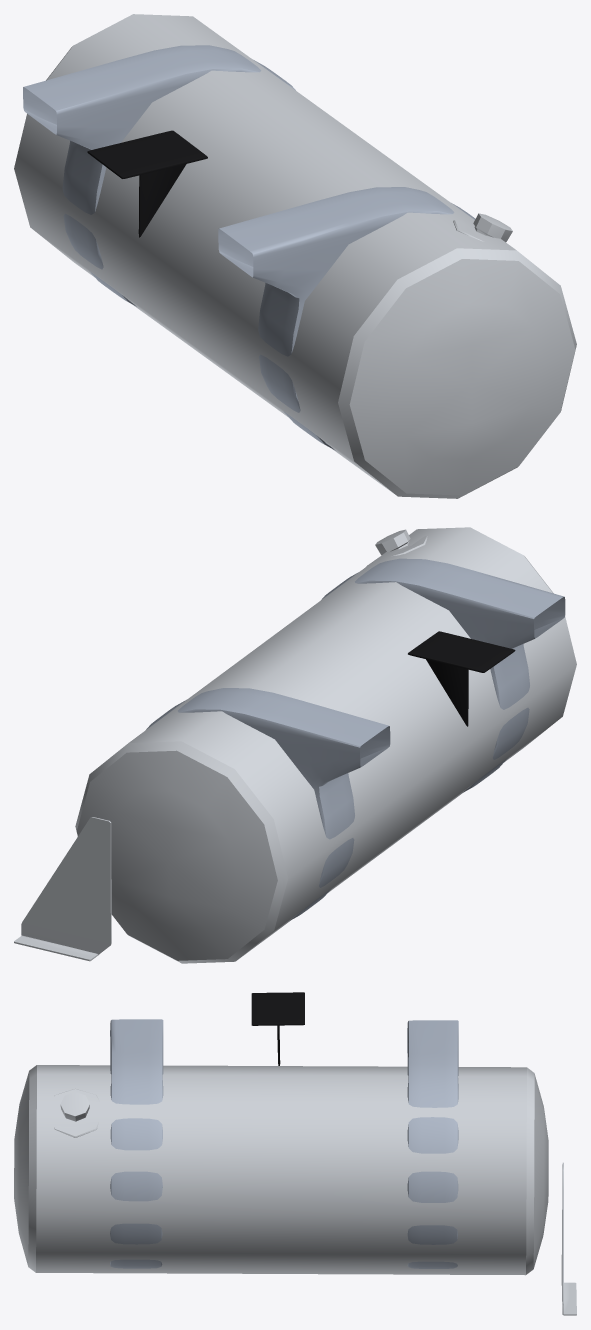
The model's file is kw_fuel_tank.glb.
The picture shows the model from 3 angles, top to bottom: view 1: azimuth 30°, elevation 25°; view 2: azimuth 150°, elevation 25°; view 3: azimuth 270°, elevation 25°; orthographic projection. The views are drawn at different scales.
Visible parts, largest first — view 1: chrome, steel, plastic_black; view 2: chrome, steel, plastic_black; view 3: chrome, steel, plastic_black.
Part boxes in pixels (x1,y1,x2,y2): chrome: (14,14,576,498); steel: (23,45,475,450); plastic_black: (87,130,207,237); chrome: (14,527,576,963); steel: (146,558,565,921); plastic_black: (408,631,515,726); chrome: (14,1065,576,1315); steel: (110,1019,458,1268); plastic_black: (251,992,304,1065).
Bounding box in the file's own units: 0.8814 × 0.6479 × 1.63.
